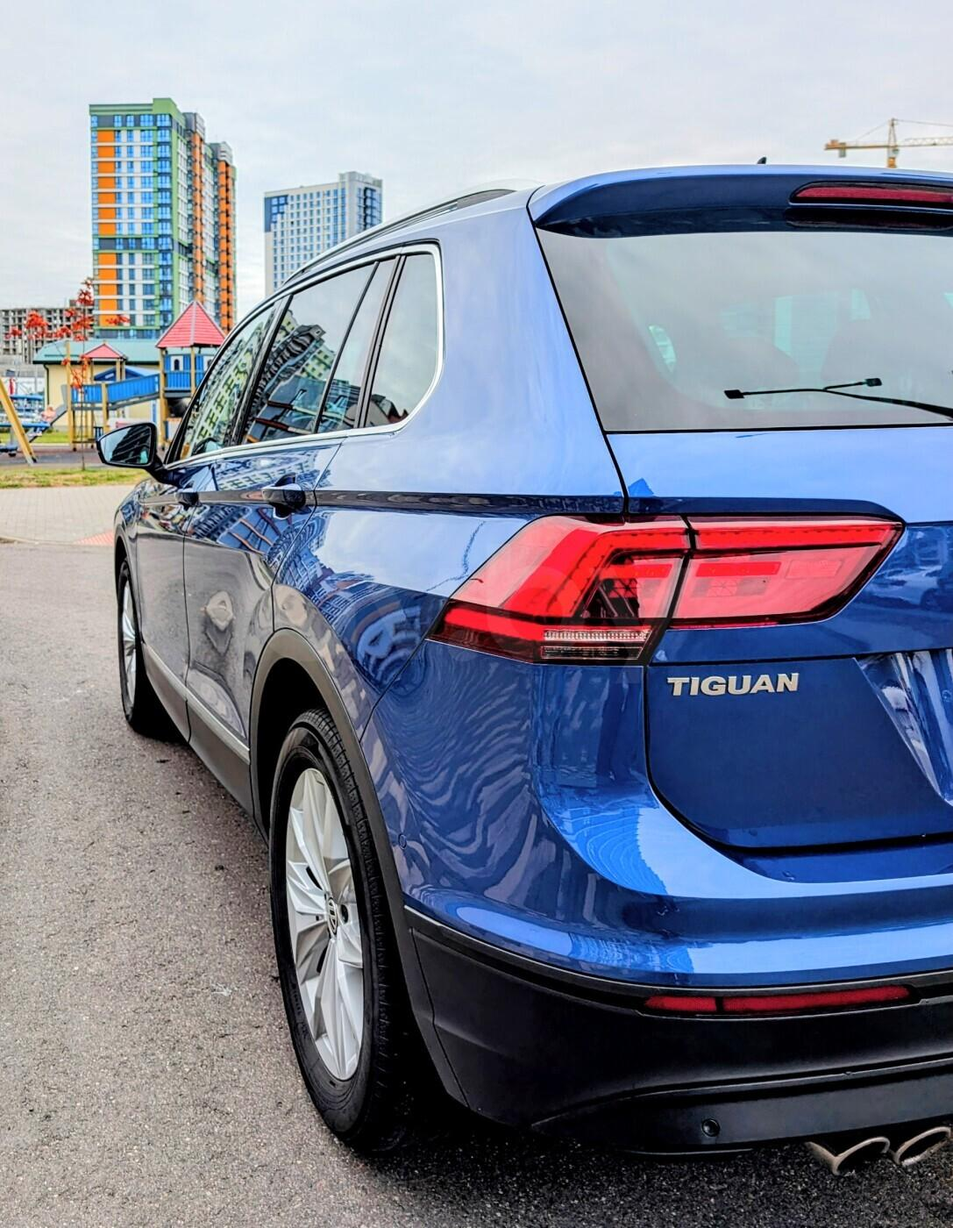Tiguan_2016-2021: (93, 156, 953, 1160)
